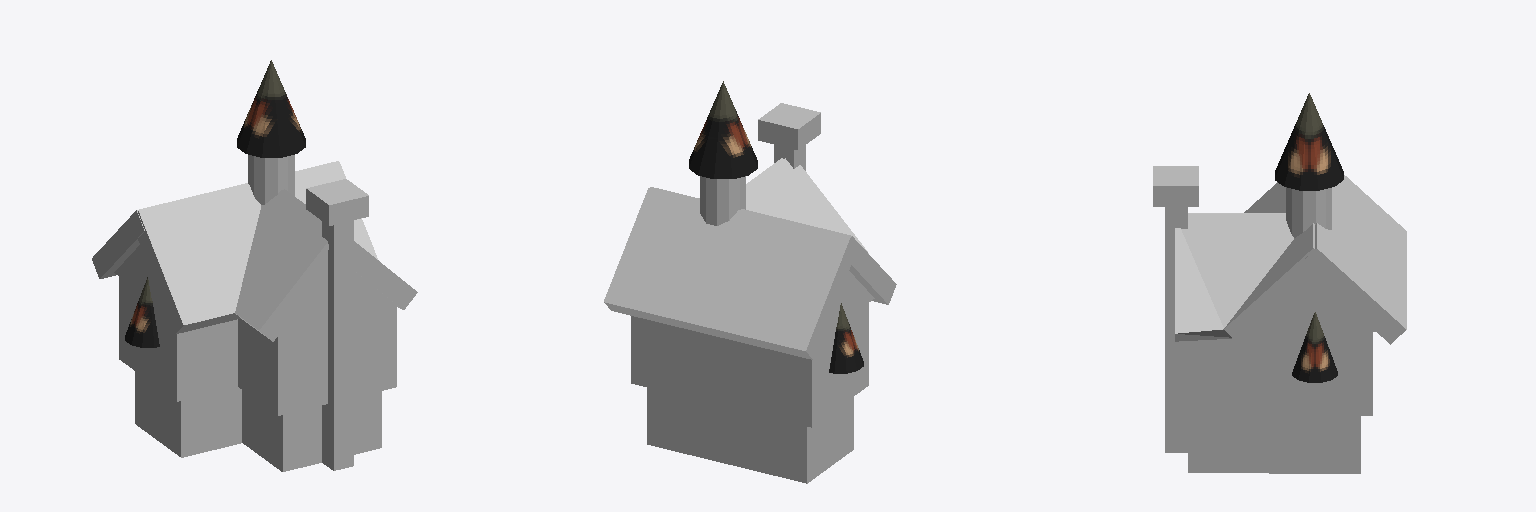
3 views of the same model, side by side, from view 1: azimuth 30°, elevation 25°; view 2: azimuth 150°, elevation 25°; view 3: azimuth 270°, elevation 25° (orthographic).
Parts seen in each view (by area): view 1: cuboid, cone, pyramid, cylinder; view 2: cuboid, cone, cylinder, pyramid; view 3: cuboid, cone, pyramid, cylinder.
Part boxes in pixels (x1,y1,x2,y2): cuboid: (92,161,417,471); cone: (125,60,305,347); pyramid: (114,245,394,331); cylinder: (248,155,294,204); cuboid: (604,103,896,483); cone: (689,81,863,373); cylinder: (700,176,745,225); pyramid: (824,271,874,334); cuboid: (1153,166,1406,473); cone: (1275,93,1343,382); pyramid: (1254,277,1375,331); cylinder: (1286,187,1331,237).
Bounding box in the file's own units: 1.38 × 2.13 × 1.37.
3 materials, 1 textured.